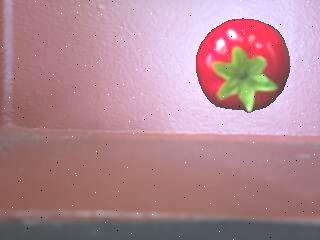Tomato: (196, 19, 292, 113)
